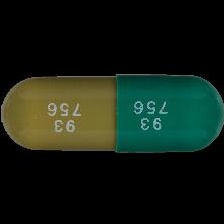52959-398: (0, 0, 224, 224)
